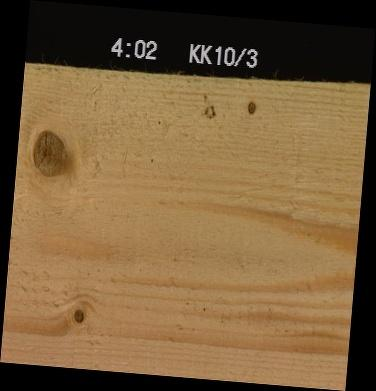dry_knot: (245, 98, 256, 115)
sound_knot: (30, 127, 69, 178), (70, 305, 85, 323)
